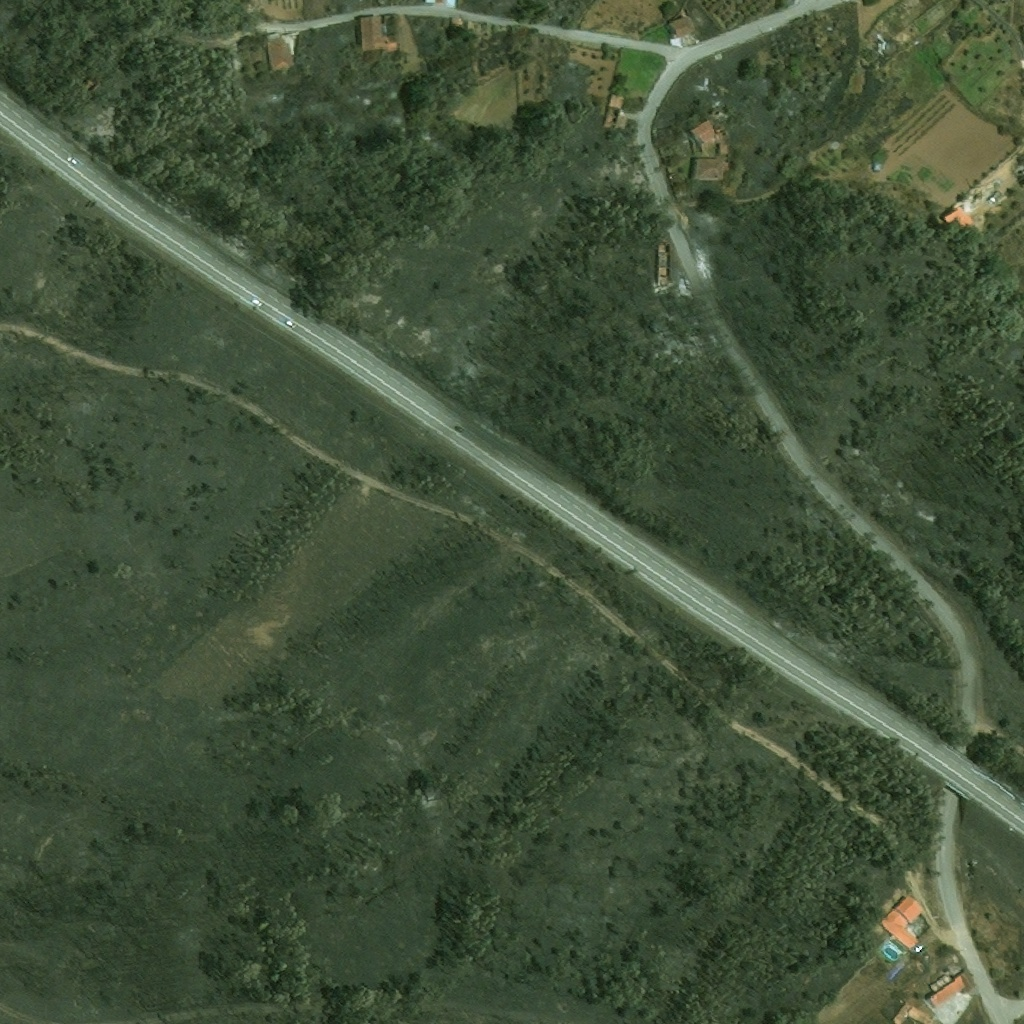0 no-damage: (877, 894, 924, 950), (925, 968, 976, 1008), (357, 15, 395, 52), (263, 37, 290, 71), (668, 16, 694, 47), (689, 158, 722, 180), (688, 120, 714, 146), (867, 163, 881, 173)
3 destroyed: (600, 94, 623, 128), (882, 40, 899, 54)
4 un-classified: (442, 0, 455, 8), (423, 0, 435, 3)
